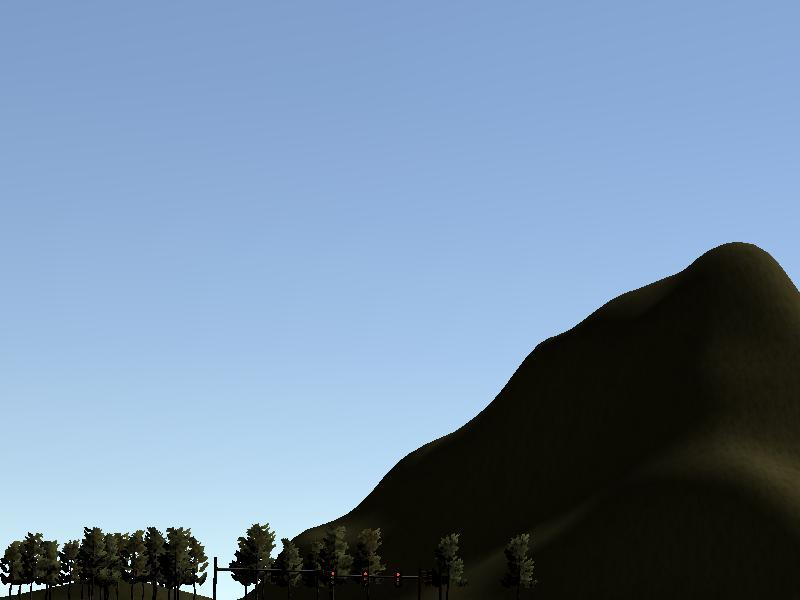Red: (363, 570, 370, 583), (329, 570, 335, 584), (395, 570, 401, 584)
